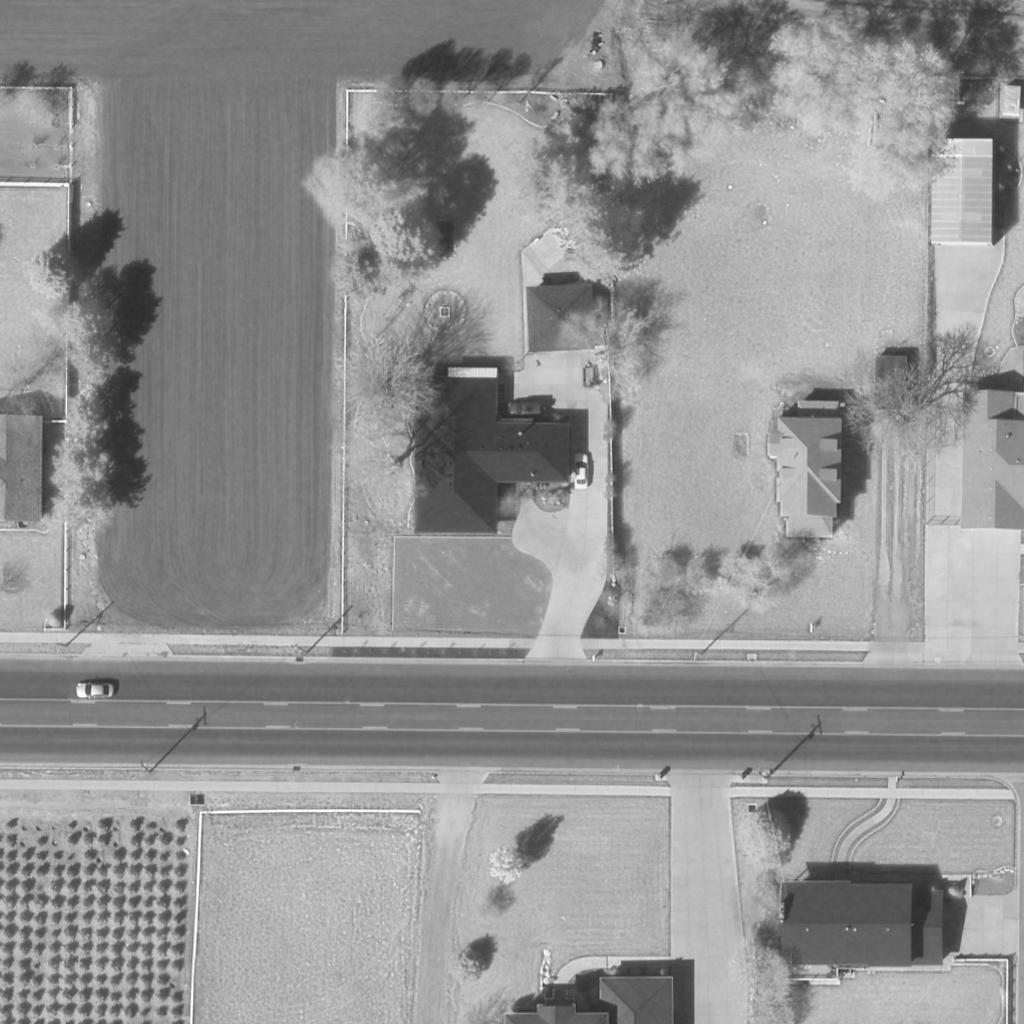vehicle: (75, 681, 115, 701), (504, 402, 546, 418), (574, 454, 590, 490)
